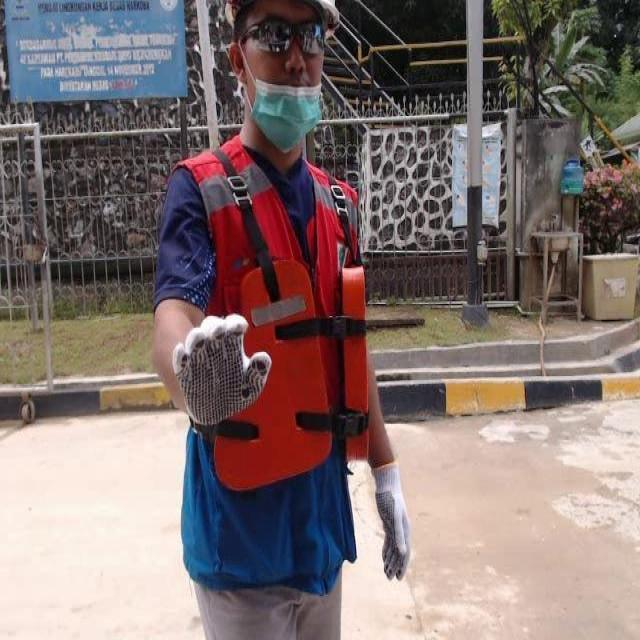Vest: (219, 275, 375, 481)
